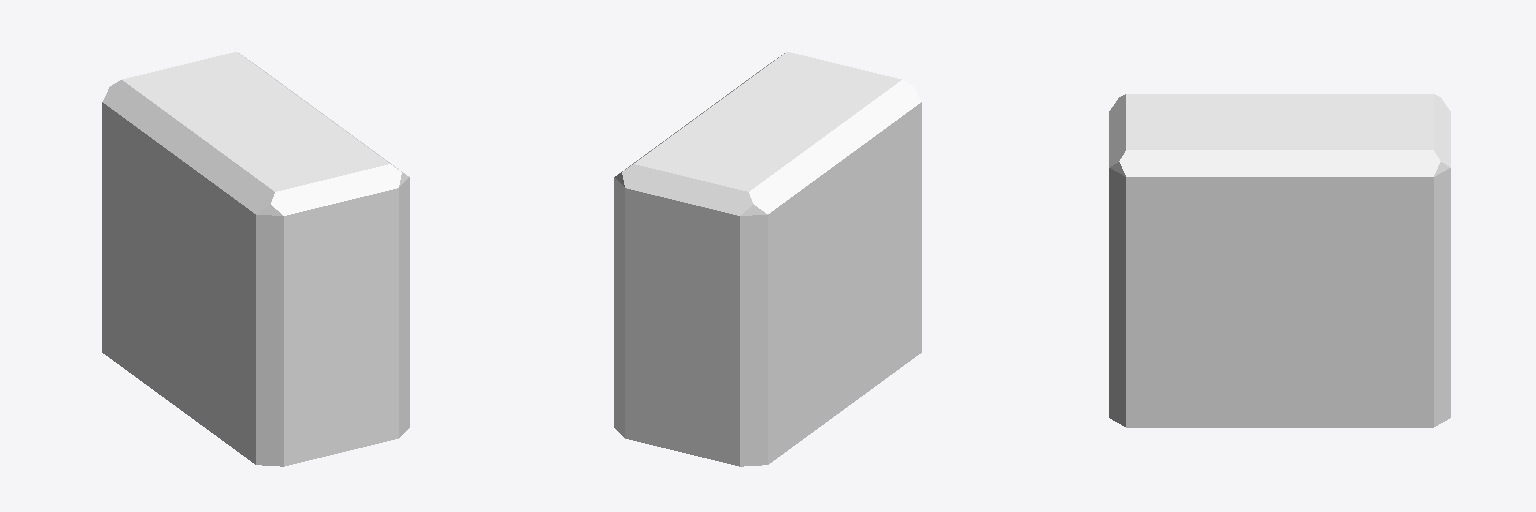
The picture shows the model from 3 angles: view 1: azimuth 30°, elevation 25°; view 2: azimuth 150°, elevation 25°; view 3: azimuth 270°, elevation 25°; orthographic projection.
Parts seen in each view (by area): view 1: PC; view 2: PC; view 3: PC.
Boxes of the visible parts, x1=… form: PC: x1=102, y1=52, x2=409, y2=466; PC: x1=614, y1=52, x2=921, y2=466; PC: x1=1109, y1=94, x2=1450, y2=427.
Bounding box in the file's own units: 0.8 × 1.34 × 1.54.